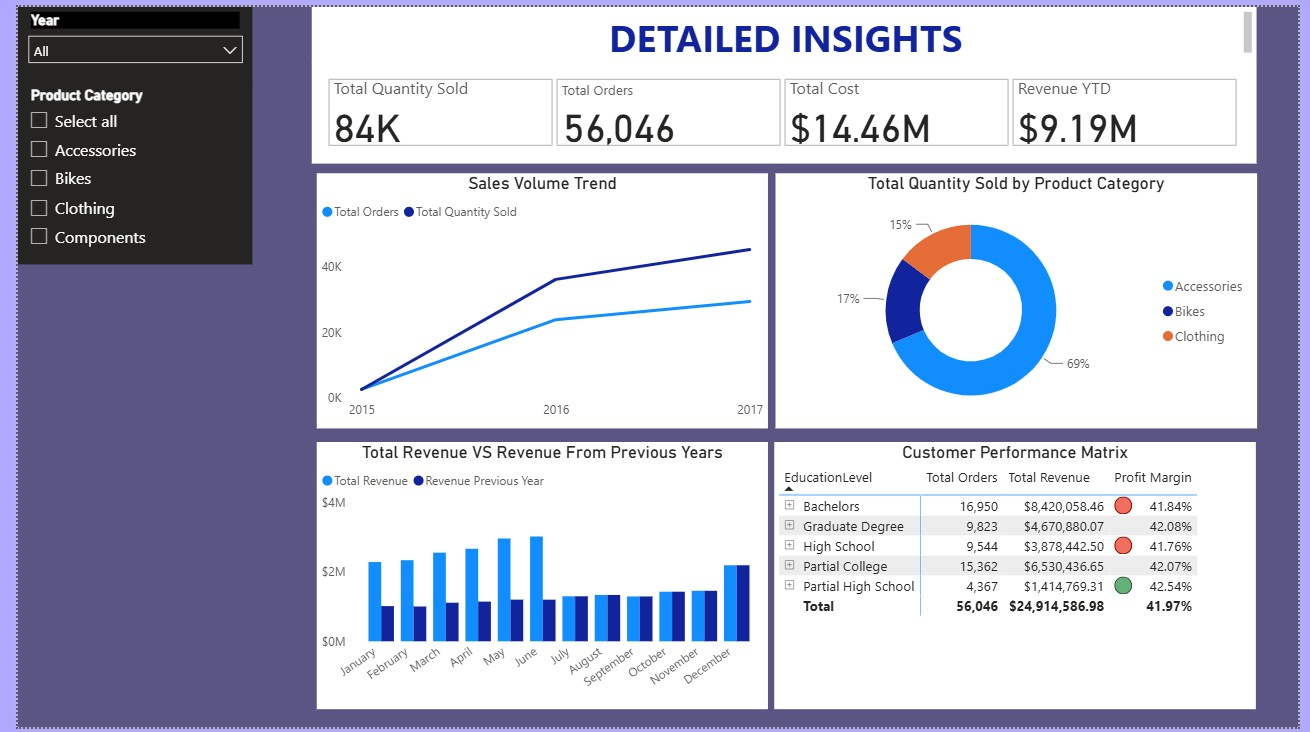

What the dashboard file says about the page in this screenshot:
{"tool":"powerbi","page":{"name":"Detailed Insights","canvas":[1280,720],"ordinal":1},"visuals":[{"type":"lineChart","title":"Sales Volume Trend","fields":{"Category":["Dim_Date.Year"],"Y":["_Measures.Total Orders","_Measures.Total Quantity Sold"]},"box":[293.7,156.4,451.5,237.4],"z":0},{"type":"donutChart","title":" Total Quantity Sold by Category Name","fields":{"Category":["Products.CategoryName"],"Y":["_Measures.Total Quantity Sold"]},"box":[756.1,156.4,481.6,237.4],"z":1000},{"type":"clusteredColumnChart","title":"Total Revenue VS Revenue From Previous Years","fields":{"Category":["Dim_Date.Month Name"],"Y":["_Measures.Total Revenue","_Measures.Revenue Previous Year"]},"box":[304.6,435,440.5,267.6],"z":2000},{"type":"pivotTable","title":"Customer Performance Matrix","fields":{"Values":["_Measures.Total Orders","_Measures.Total Revenue","_Measures.Profit Margin"],"Rows":["Customers.EducationLevel","Customers.Occupation"]},"box":[756.1,435,481.6,267.6],"z":3000},{"type":"textbox","box":[294.1,0,985.9,55.3],"z":4000},{"type":"slicer","fields":{"Values":["Dim_Date.Year"]},"box":[0,0,234.6,75.5],"z":5000},{"type":"slicer","fields":{"Values":["Products.CategoryName"]},"box":[0,75.5,234.6,182.5],"z":6000},{"type":"cardVisual","fields":{"Data":["_Measures.Total Quantity Sold","_Measures.Total Orders","_Measures.Total Cost","_Measures.Revenue YTD"]},"box":[293.7,54.9,985.3,85.1],"z":7000}]}

Visuals, with their boxes in screenshot pixels (x1, y1, x2, y2), scaled from the page's 1280x720 canvas onto the 1310x732 screenshot:
"Sales Volume Trend" lineChart: [x1=301, y1=159, x2=763, y2=400]
" Total Quantity Sold by Category Name" donutChart: [x1=774, y1=159, x2=1267, y2=400]
"Total Revenue VS Revenue From Previous Years" clusteredColumnChart: [x1=312, y1=442, x2=763, y2=714]
"Customer Performance Matrix" pivotTable: [x1=774, y1=442, x2=1267, y2=714]
textbox: [x1=301, y1=0, x2=1309, y2=56]
slicer - Dim_Date.Year: [x1=0, y1=0, x2=240, y2=77]
slicer - Products.CategoryName: [x1=0, y1=77, x2=240, y2=262]
cardVisual - _Measures.Total Quantity Sold x _Measures.Total Orders: [x1=301, y1=56, x2=1309, y2=142]
